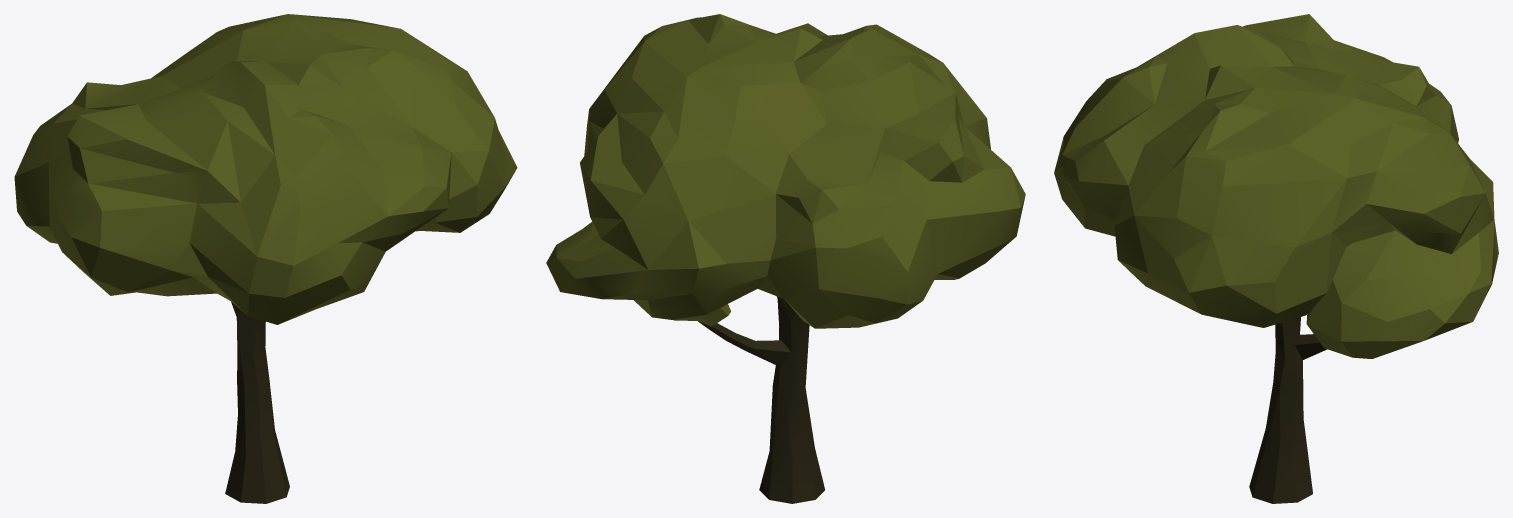
Rendered from OakD.fbx.
The picture shows the model from 3 angles, left to right: view 1: azimuth 30°, elevation 25°; view 2: azimuth 150°, elevation 25°; view 3: azimuth 270°, elevation 25°; orthographic projection.
Visible parts, largest first — view 1: OakD; view 2: OakD; view 3: OakD.
Boxes of the visible parts, x1=… form: OakD: x1=14, y1=14, x2=517, y2=503; OakD: x1=546, y1=14, x2=1025, y2=503; OakD: x1=1054, y1=14, x2=1498, y2=503.
Bounding box in the file's own units: 3025 × 3065 × 2766.
